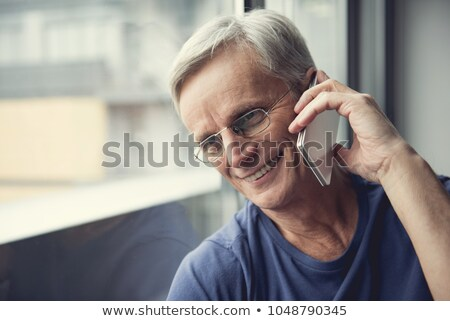phone: (298, 72, 354, 195)
talk: (189, 65, 404, 205)
